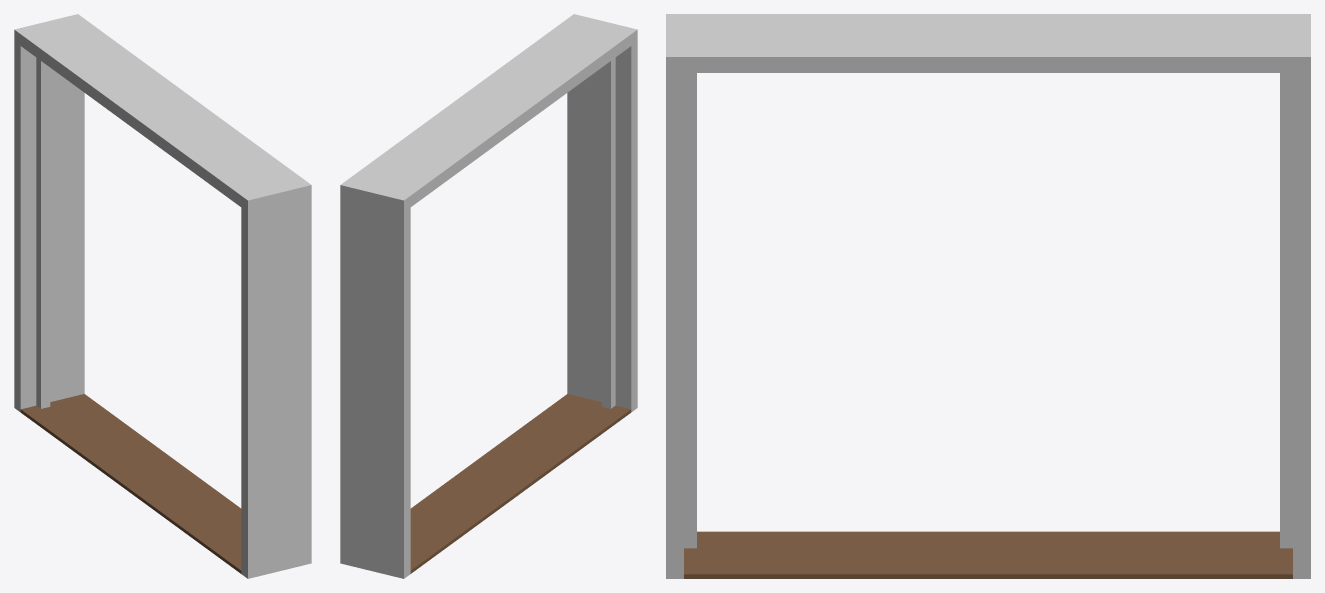
Rendered from SM_doorFrame_02.glb.
The picture shows the model from 3 angles, left to right: view 1: azimuth 30°, elevation 25°; view 2: azimuth 150°, elevation 25°; view 3: azimuth 270°, elevation 25°; orthographic projection. The views are drawn at different scales.
Parts seen in each view (by area): view 1: SM_doorFrame_02; view 2: SM_doorFrame_02; view 3: SM_doorFrame_02.
Part boxes in pixels (x1,y1,x2,y2): SM_doorFrame_02: [14, 14, 311, 578]; SM_doorFrame_02: [340, 14, 637, 578]; SM_doorFrame_02: [666, 14, 1310, 578].
Size of the model in its own units: 0.4 by 2.27 by 2.54.
2 materials, 1 textured.
